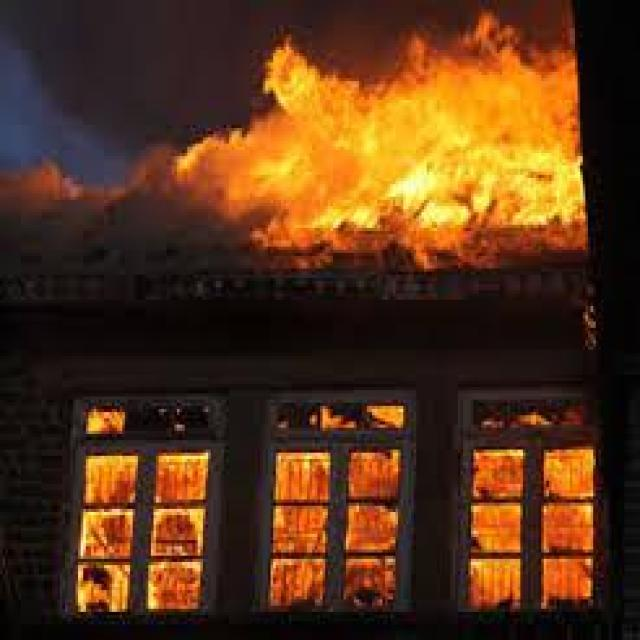fire: (249, 51, 588, 263), (60, 430, 220, 630), (276, 438, 409, 609), (474, 439, 597, 618)
smoke: (41, 127, 196, 221)
